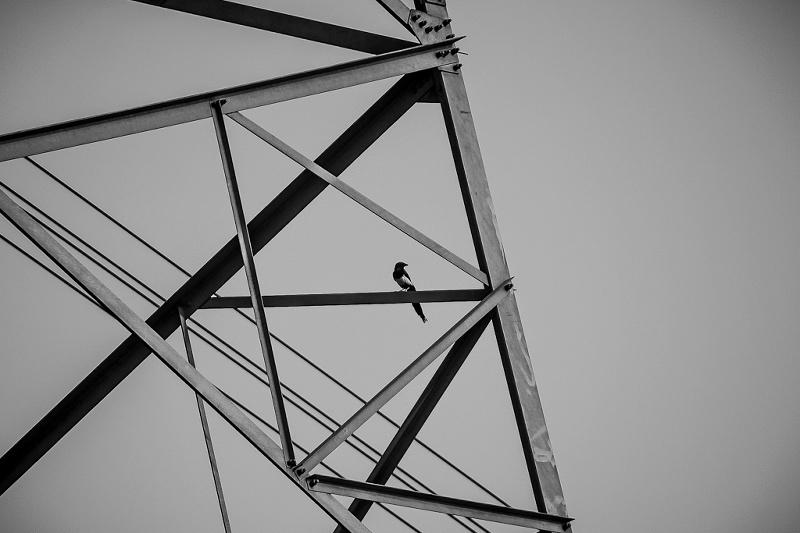power_tower: (6, 15, 538, 523)
